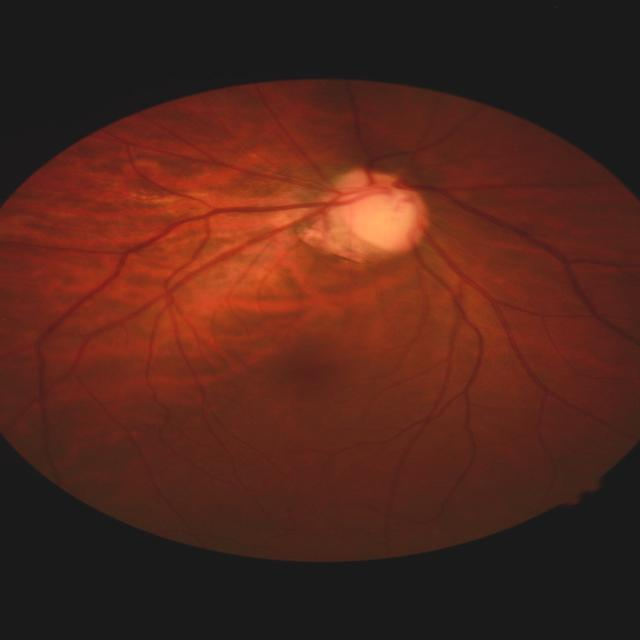cup: (345, 185, 415, 249)
disk: (328, 167, 430, 253)
